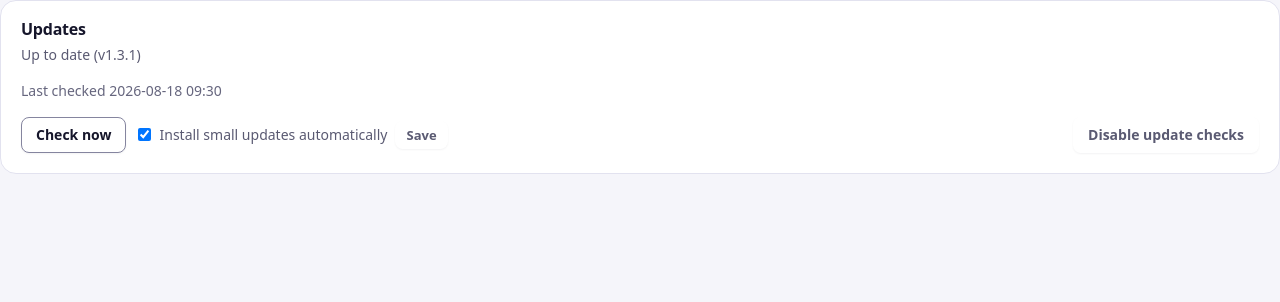
Test: Task 3d, symptom A: the client prefers the freshest action result over stale props › Check now resolving a new version updates the header and offers Update now with NO prop change
Expected: the text "Up to date (v1.3.1)" is shown, [21,45,141,65]
Click the button "Check now".
click(74, 135)  # box [21,117,126,152]
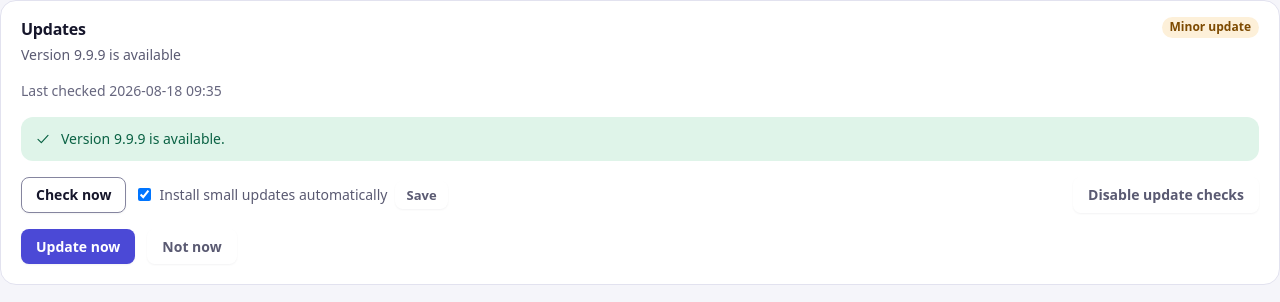
Expected: the text "Version 9.9.9 is available" is shown, [21,45,181,65]
Expected: the text "Up to date (v1.3.1)" is gone
Expected: the text "Minor update" is shown, [1162,17,1259,38]
